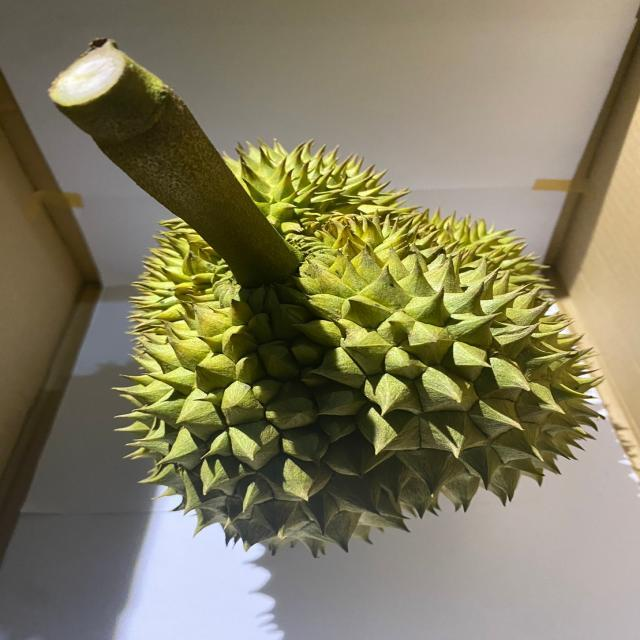immature: (111, 139, 605, 559)
